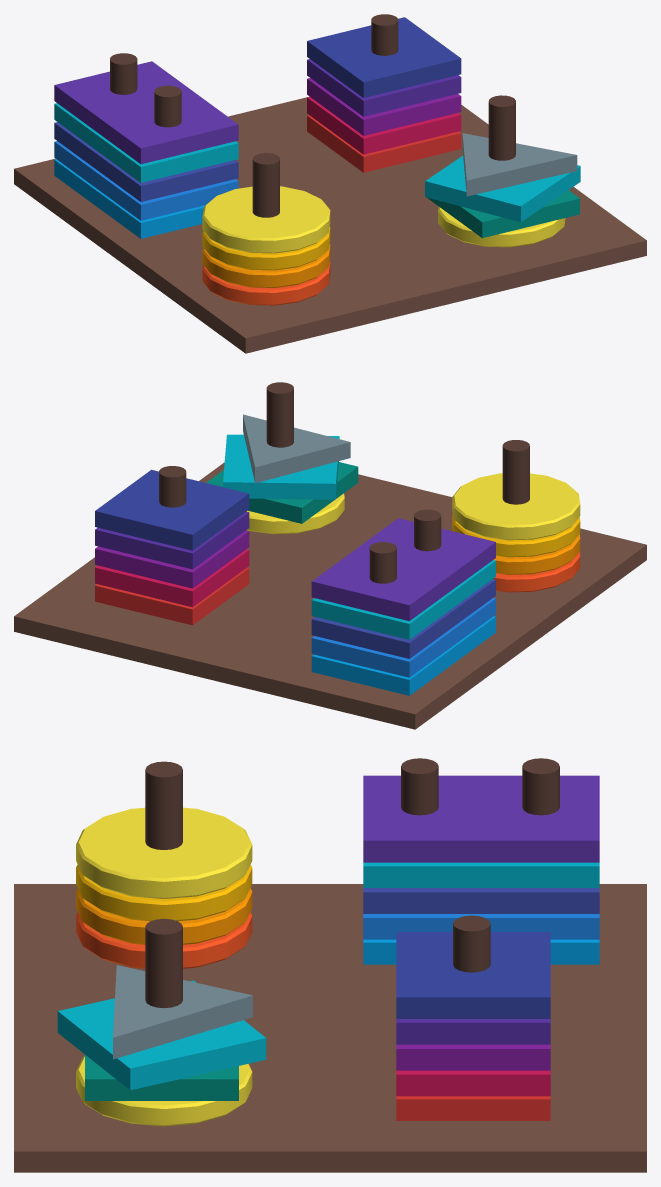
Rendered from Wooden_Toy_1.fbx.
3 renders of one model, top to bottom at view 1: azimuth 30°, elevation 25°; view 2: azimuth 150°, elevation 25°; view 3: azimuth 270°, elevation 25°, orthographic. The views are drawn at different scales.
Parts seen in each view (by area): view 1: Wooden_Toy_1; view 2: Wooden_Toy_1; view 3: Wooden_Toy_1.
Part boxes in pixels (box(x1,y1,x2,y2)): Wooden_Toy_1: box(14, 14, 646, 353); Wooden_Toy_1: box(14, 382, 646, 729); Wooden_Toy_1: box(14, 758, 646, 1172).
Bounding box in the file's own units: 53.88 × 17.48 × 53.88.
Materials: 1 (1 with a texture image).
